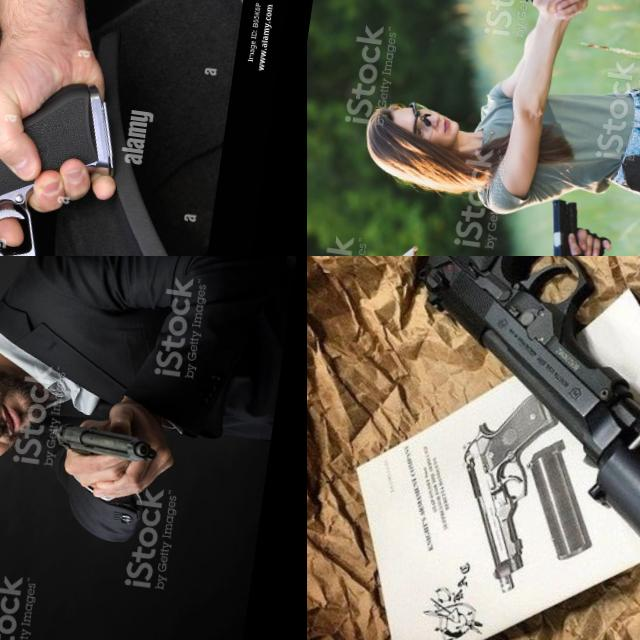handgun: (389, 256, 640, 480), (0, 55, 136, 256), (46, 416, 165, 474), (537, 193, 588, 256), (516, 0, 569, 38)
